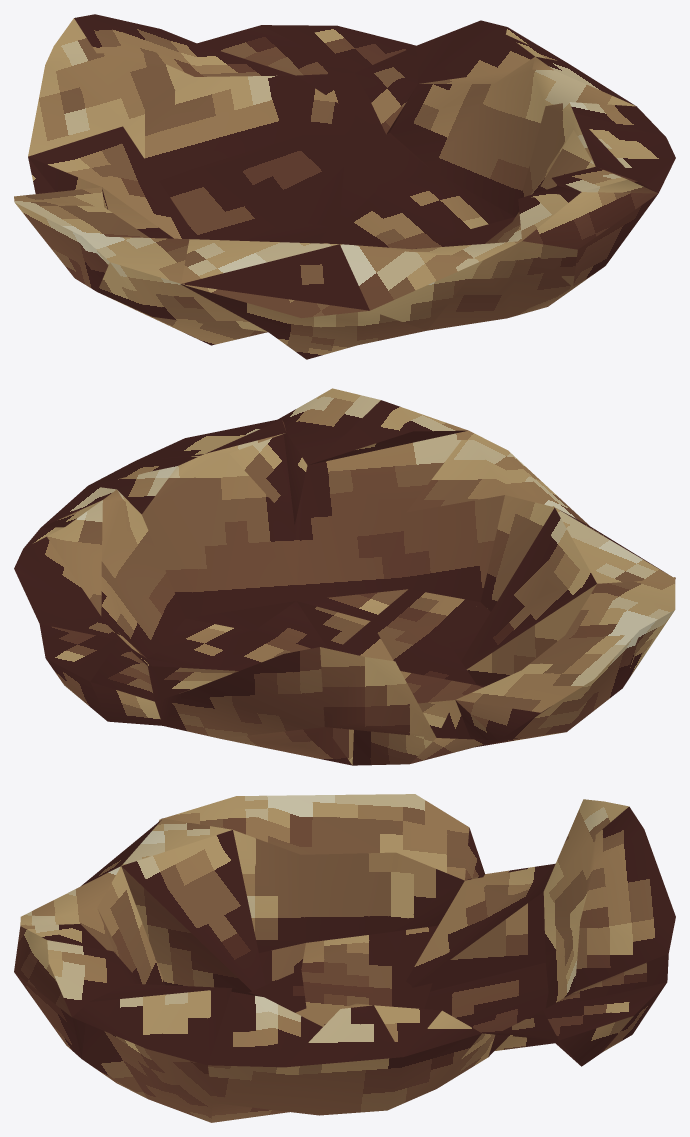
Rendered from wooden_bowl_01.glb.
3 views of the same model, one above another, from view 1: azimuth 30°, elevation 25°; view 2: azimuth 150°, elevation 25°; view 3: azimuth 270°, elevation 25° (orthographic). The views are drawn at different scales.
Visible parts, largest first — view 1: mesh; view 2: mesh; view 3: mesh.
Boxes of the visible parts, bbox=[...] form: mesh: bbox=[14, 14, 675, 359]; mesh: bbox=[14, 388, 675, 765]; mesh: bbox=[14, 794, 675, 1122].
Size of the model in its own units: 0.3051 by 0.0937 by 0.3052.
1 material, 1 textured.
